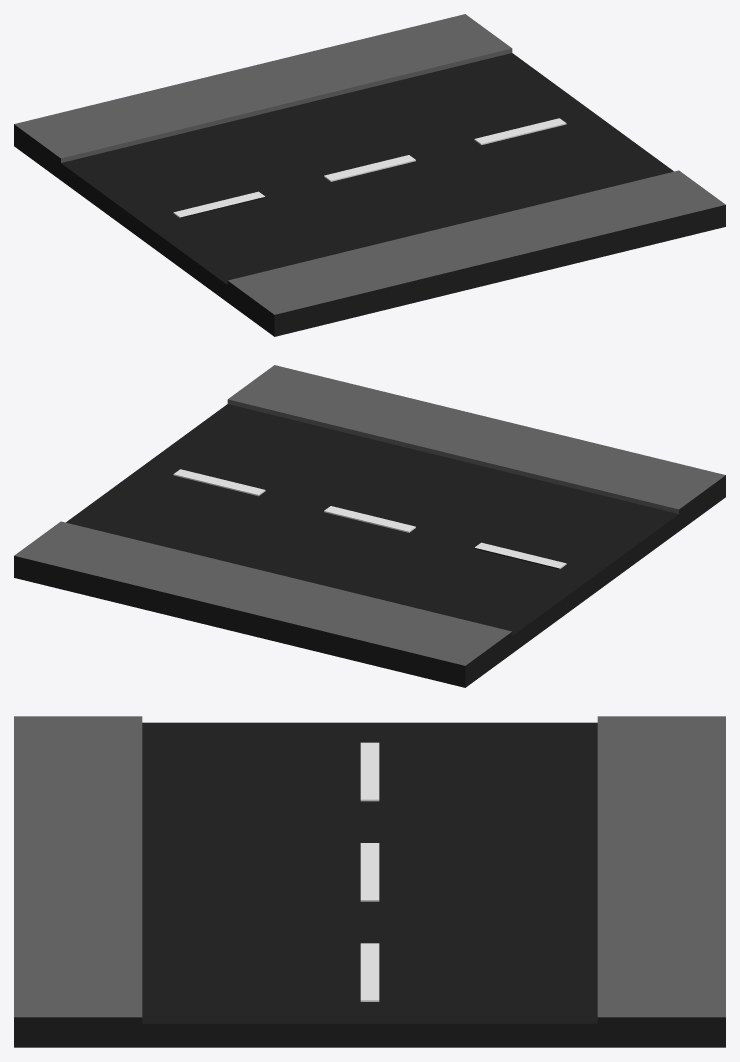
File: road_straight.glb
The picture shows the model from 3 angles, top to bottom: view 1: azimuth 30°, elevation 25°; view 2: azimuth 150°, elevation 25°; view 3: azimuth 270°, elevation 25°; orthographic projection. The views are drawn at different scales.
Parts seen in each view (by area): view 1: Cube; view 2: Cube; view 3: Cube.
Part boxes in pixels (x1,y1,x2,y2): Cube: [14, 14, 725, 336]; Cube: [14, 365, 725, 687]; Cube: [14, 716, 725, 1047].
Size of the model in its own units: 2 by 0.0934 by 2.
1 material, 1 textured.
